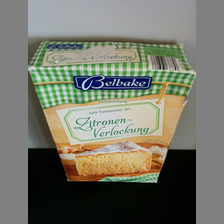cake: (27, 40, 197, 184)
